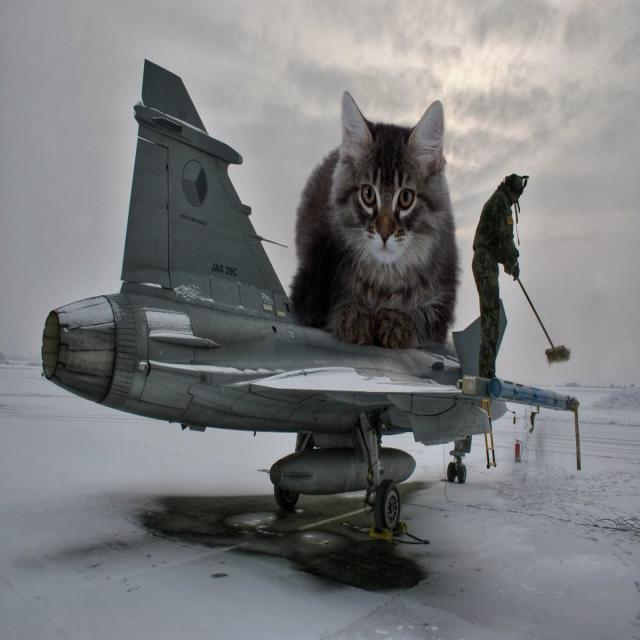MIL_Plane: (41, 57, 580, 534)
